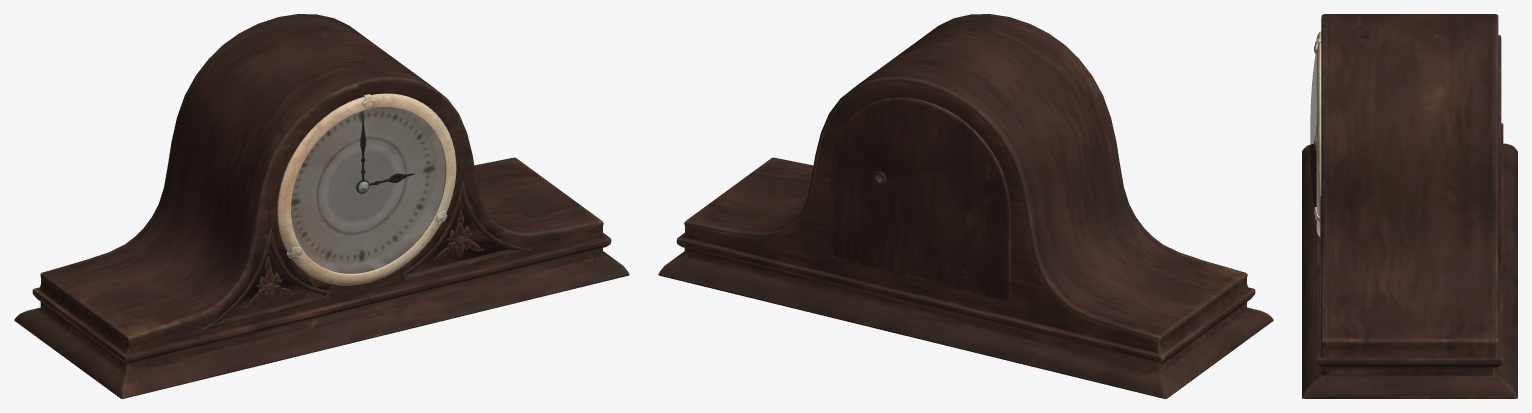
Rendered from mantel-clock.glb.
The picture shows the model from 3 angles, left to right: view 1: azimuth 30°, elevation 25°; view 2: azimuth 150°, elevation 25°; view 3: azimuth 270°, elevation 25°; orthographic projection.
Visible parts, largest first — view 1: mantel_clock_01, mantel_clock_01_glass; view 2: mantel_clock_01; view 3: mantel_clock_01, mantel_clock_01_glass.
Part boxes in pixels (x1,y1,x2,y2): mantel_clock_01: (14,14,629,398); mantel_clock_01_glass: (291,107,445,273); mantel_clock_01: (658,14,1273,398); mantel_clock_01: (1302,14,1517,398); mantel_clock_01_glass: (1310,53,1316,206).
Size of the model in its own units: 0.3423 by 0.1605 by 0.1261.
2 materials, 2 textured.
